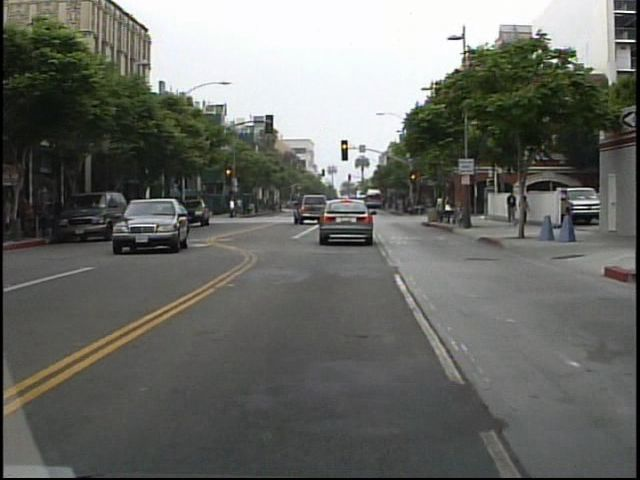person: (433, 189, 451, 225), (505, 186, 520, 227), (523, 189, 532, 226), (228, 193, 238, 219)
